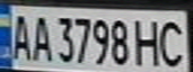3: (51, 12, 75, 63)
7: (69, 13, 93, 64)
8: (109, 15, 133, 66)
9: (90, 15, 112, 65)
A: (6, 10, 36, 62), (27, 11, 54, 63)
C: (154, 16, 190, 69)
H: (133, 16, 166, 68)
